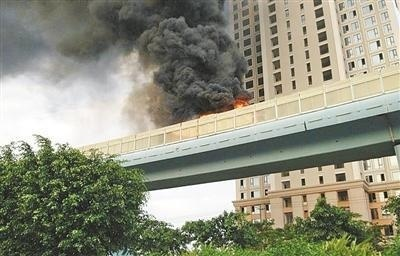fire: (234, 97, 250, 109)
